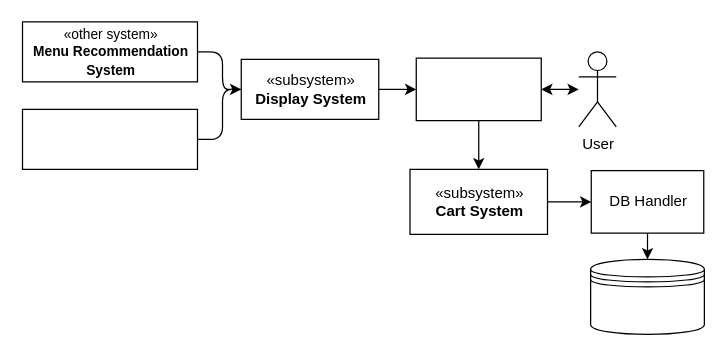
This 726x356 diagram has some shape labels left out. Here are the shapes that lost their labels. From the top down, the box of each, then its label:
(415, 57, 541, 121): User Interface
(21, 108, 198, 169): «other system» Search System
(589, 258, 704, 334): Cart DB
